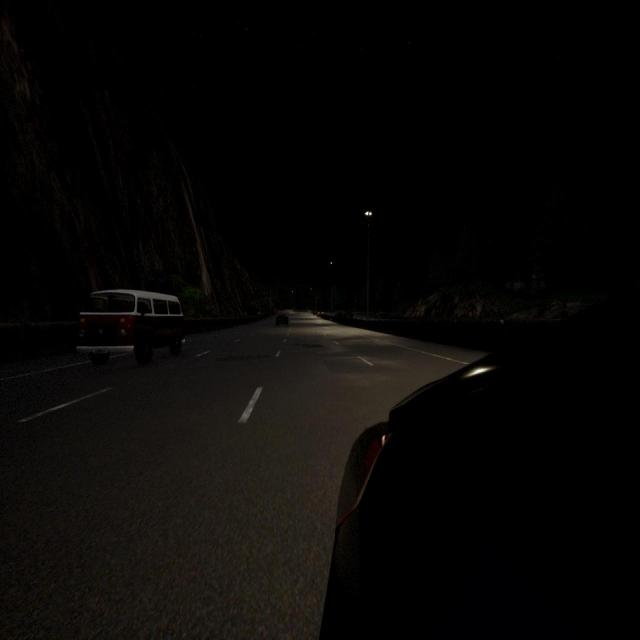Traffic_Signs: (469, 312, 472, 316)
Vehicle: (320, 288, 640, 637), (74, 289, 185, 365), (276, 313, 288, 327), (336, 309, 352, 318)
